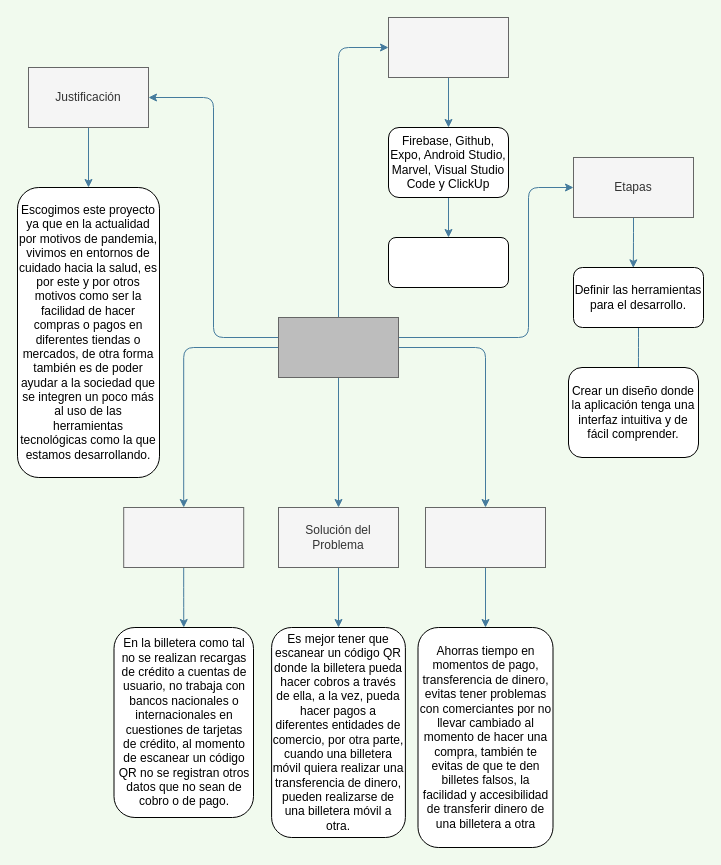
This 721x865 diagram has some shape labels left out. The box of each missing label's shape, as (x1, y1, x2, y2) in pixels:
Beneficios: (424, 506, 546, 568)
Billetera Móvil Wallet Pro: (278, 316, 398, 378)
Herramientas y Lenguajes: (388, 16, 508, 78)
Problema: (123, 506, 244, 568)
React, JavaScript: (388, 236, 508, 288)
